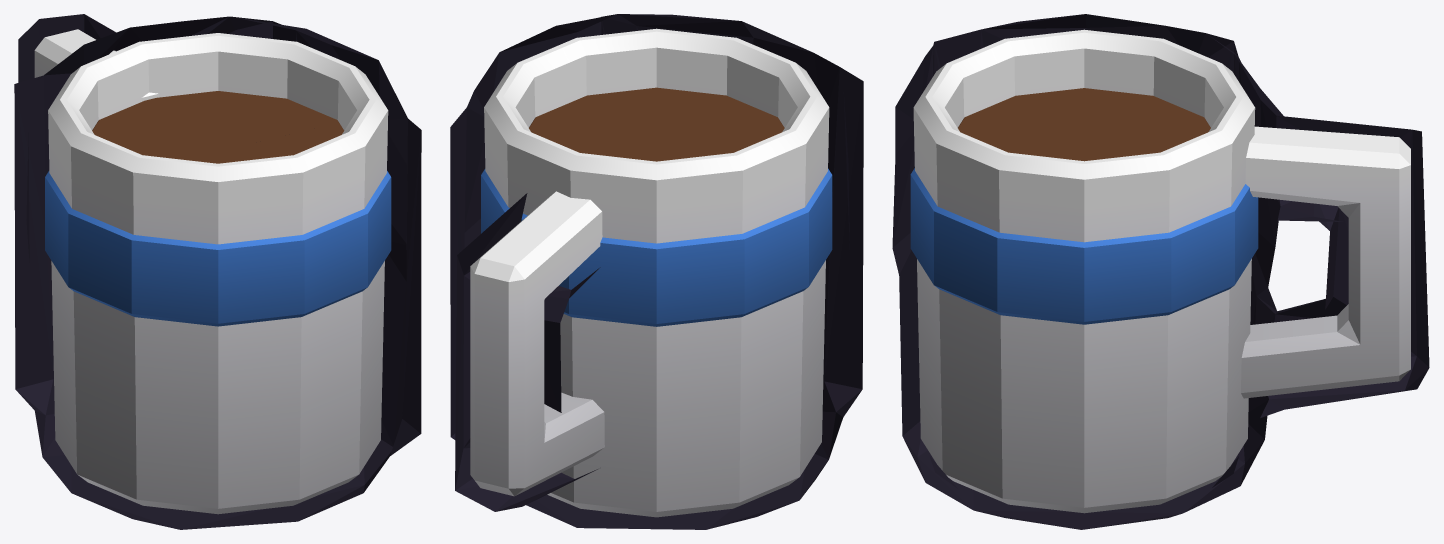
The model's file is Mug_Outline.fbx.
3 views of the same model, side by side, from view 1: azimuth 30°, elevation 25°; view 2: azimuth 150°, elevation 25°; view 3: azimuth 270°, elevation 25° (orthographic).
Parts seen in each view (by area): view 1: Mug; view 2: Mug; view 3: Mug.
Boxes of the visible parts, box(x1,y1,x2,y2) form: Mug: box(14, 14, 421, 529); Mug: box(450, 14, 863, 529); Mug: box(892, 14, 1429, 529).
Size of the model in its own units: 0.4429 by 0.4912 by 0.6215.
Materials: 1 (1 with a texture image).
